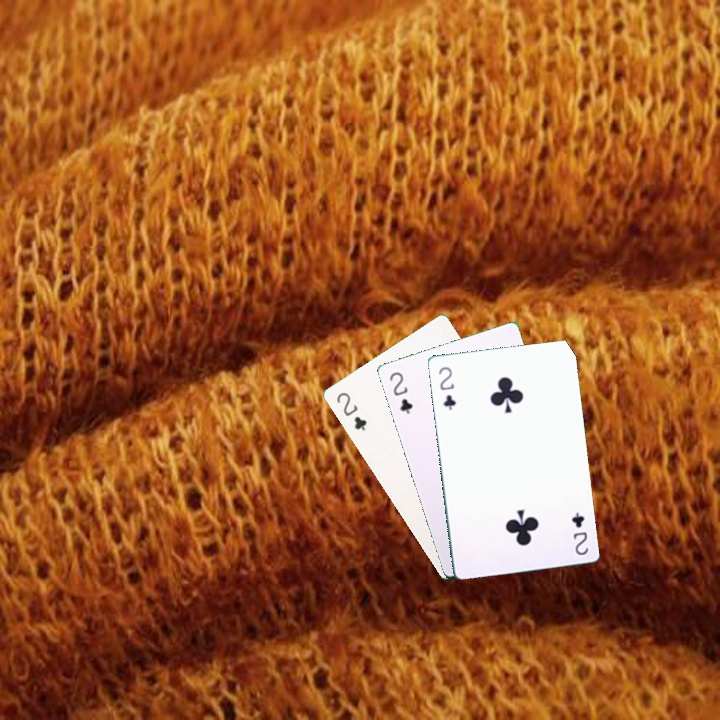2c: (332, 388, 369, 434), (385, 368, 415, 417), (434, 363, 459, 412), (567, 508, 591, 558)
